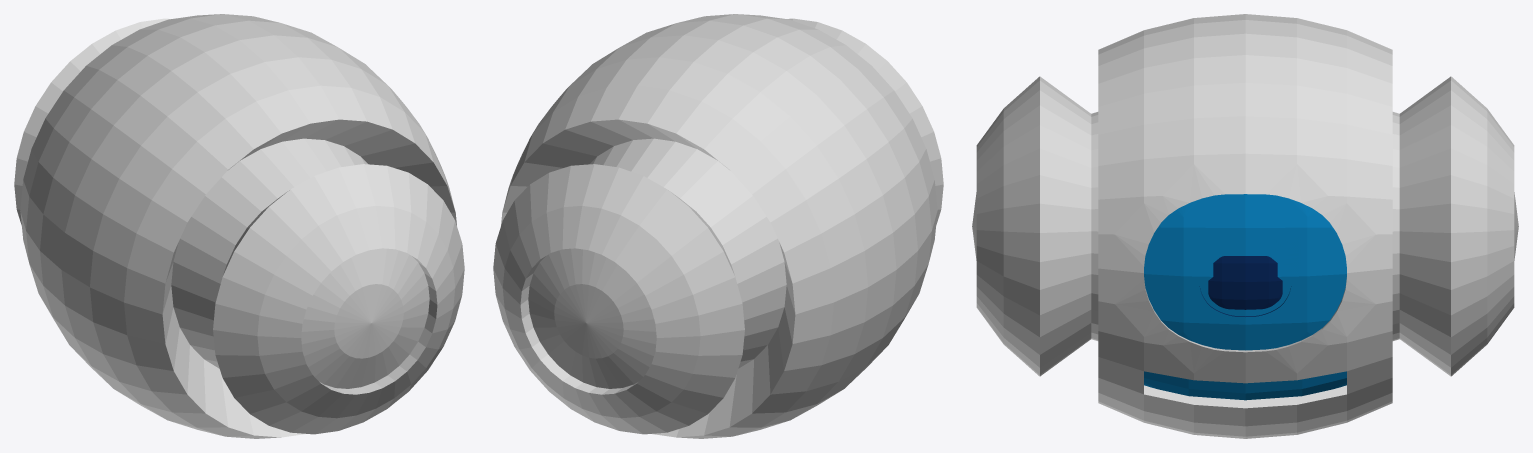
File: robot.fbx
3 views of the same model, side by side, from view 1: azimuth 30°, elevation 25°; view 2: azimuth 150°, elevation 25°; view 3: azimuth 270°, elevation 25° (orthographic). The views are drawn at different scales.
Visible parts, largest first — view 1: Sphere; view 2: Sphere; view 3: Sphere, Sphere.001, Sphere.003, Sphere.002.
Boxes of the visible parts, left/top/right/bottom form: Sphere: left=14, top=14, right=464, bottom=438; Sphere: left=493, top=14, right=943, bottom=438; Sphere: left=972, top=14, right=1518, bottom=438; Sphere.001: left=1144, top=194, right=1346, bottom=350; Sphere.003: left=1199, top=256, right=1291, bottom=316; Sphere.002: left=1144, top=371, right=1346, bottom=400.
Bounding box in the file's own units: 1981 × 2000 × 2571.
